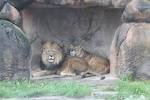lion: (39, 40, 87, 82), (70, 45, 108, 78)
